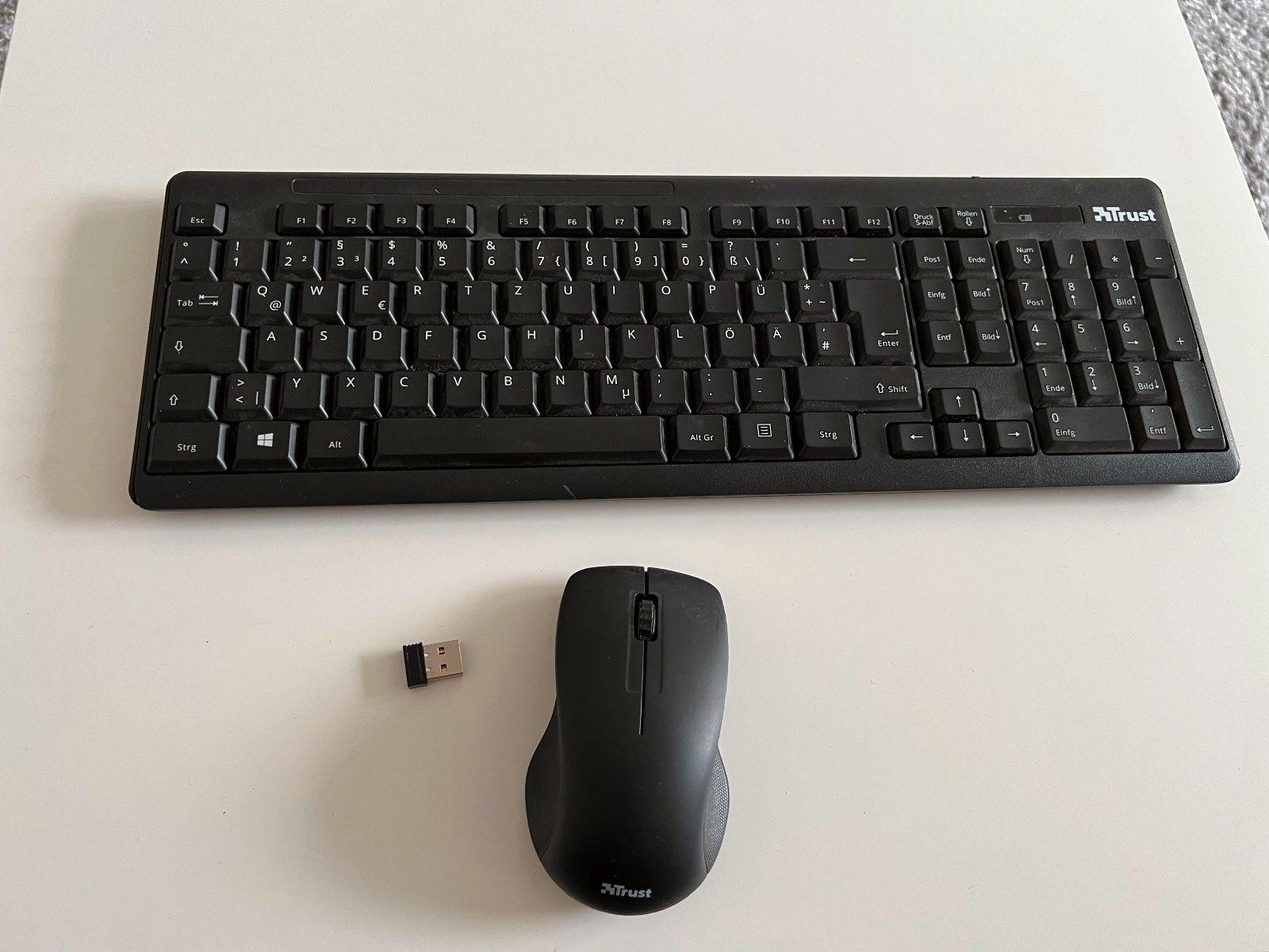0: (671, 235, 709, 271)
1: (220, 234, 263, 273)
2: (273, 233, 316, 273)
3: (325, 232, 366, 273)
4: (375, 233, 416, 271)
5: (427, 234, 466, 271)
6: (477, 234, 516, 272)
7: (527, 234, 566, 272)
8: (576, 234, 614, 273)
9: (623, 234, 661, 273)
a: (253, 321, 294, 360)
accent: (766, 235, 802, 270)
ae: (764, 319, 801, 355)
alt-left: (302, 415, 360, 460)
altgr-right: (672, 410, 725, 451)
b: (492, 365, 531, 405)
c: (386, 367, 427, 406)
caret: (167, 233, 210, 273)
comma: (646, 364, 684, 403)
d: (359, 321, 399, 359)
del: (811, 235, 895, 271)
e: (348, 276, 389, 315)
enter: (841, 273, 912, 358)
f: (413, 321, 451, 358)
g: (464, 321, 503, 358)
h: (516, 321, 554, 358)
hash: (811, 317, 848, 356)
i: (603, 278, 638, 311)
j: (568, 321, 604, 358)
k: (618, 321, 654, 357)
keyboard: (109, 163, 1240, 507)
l: (667, 321, 704, 356)
less: (220, 367, 266, 411)
m: (595, 364, 634, 403)
minus: (744, 363, 782, 400)
n: (545, 366, 584, 404)
o: (651, 277, 688, 312)
oe: (715, 319, 752, 356)
p: (700, 277, 736, 312)
plus: (795, 275, 831, 312)
point: (696, 363, 734, 402)
q: (242, 277, 286, 318)
r: (402, 277, 440, 313)
s: (307, 321, 346, 359)
shift-left: (151, 370, 210, 414)
shift-lock: (155, 321, 240, 367)
shift-right: (794, 362, 918, 401)
space: (369, 413, 662, 456)
ss: (719, 235, 755, 271)
strg-left: (143, 417, 221, 467)
strg-right: (799, 407, 854, 450)
t: (454, 277, 490, 311)
tab: (162, 275, 232, 318)
u: (554, 278, 590, 313)
ue: (746, 276, 784, 311)
v: (441, 367, 481, 406)
w: (297, 277, 337, 313)
x: (332, 367, 374, 406)
y: (278, 367, 320, 408)
z: (504, 277, 539, 312)
